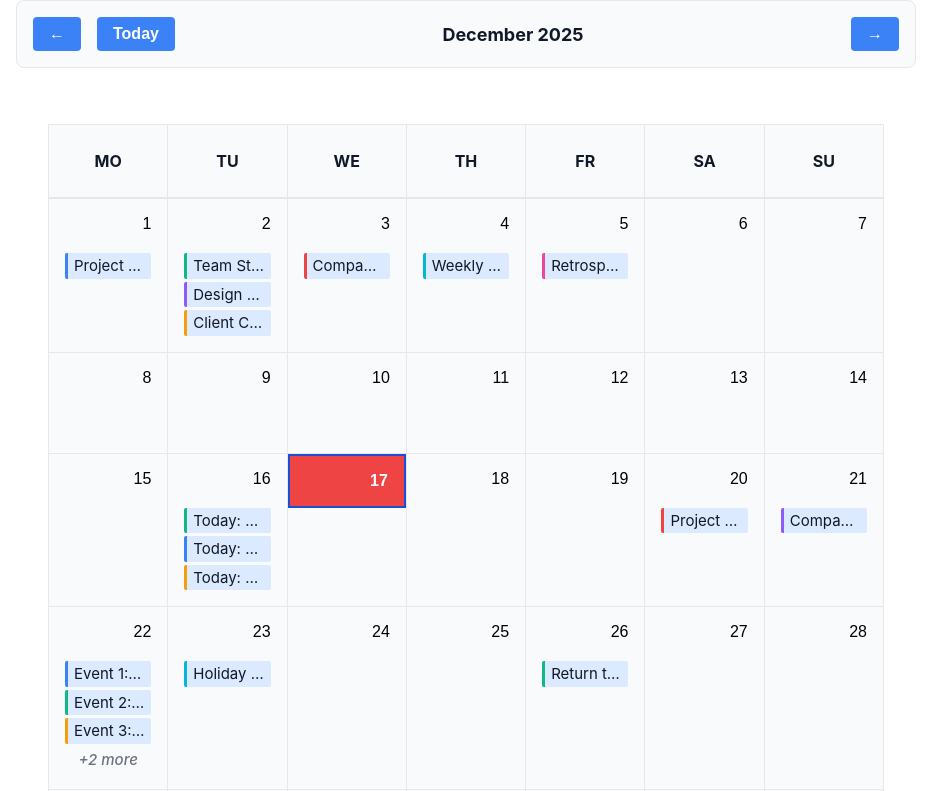
it: MonthlyCalendar › Navigation › navigates to next month
Click the button named "Next month" at (875, 34), box [851,17,899,51]
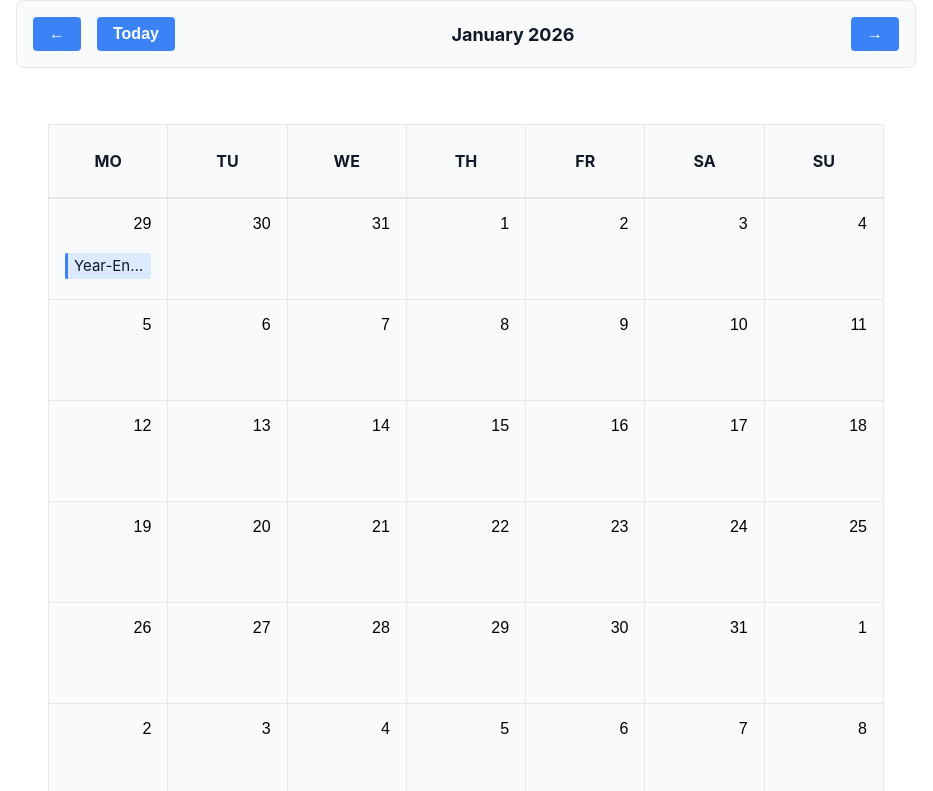
Expected: the heading "January 2026" is shown, [451,24,574,44]
